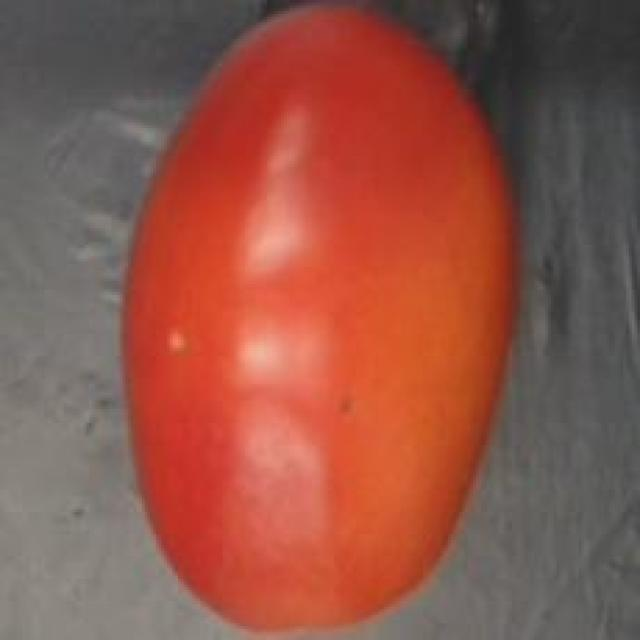ripe tomato: (106, 3, 540, 640)
